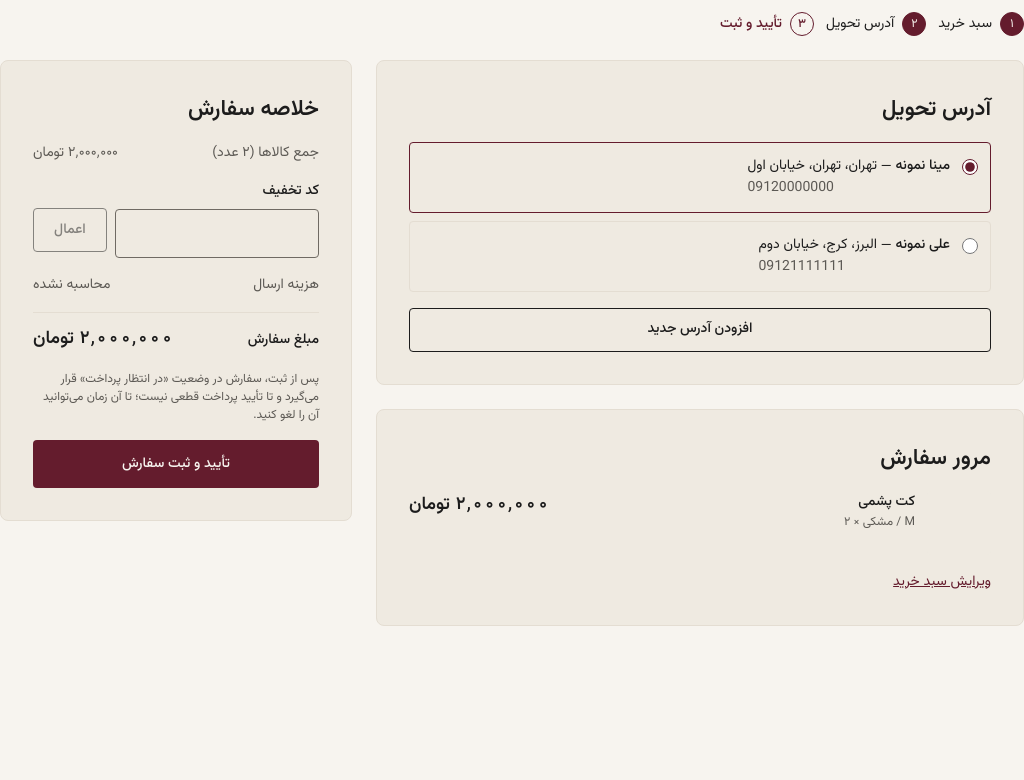
it: Checkout › 10) نشست منقضی (۴۰۱): پیام و پیوند ورود؛ آدرس نامعتبر (۴۰۴) پیام مناسب
Step 1. Click the button "تأیید و ثبت سفارش" → x=176, y=464, box [33,440,319,488]
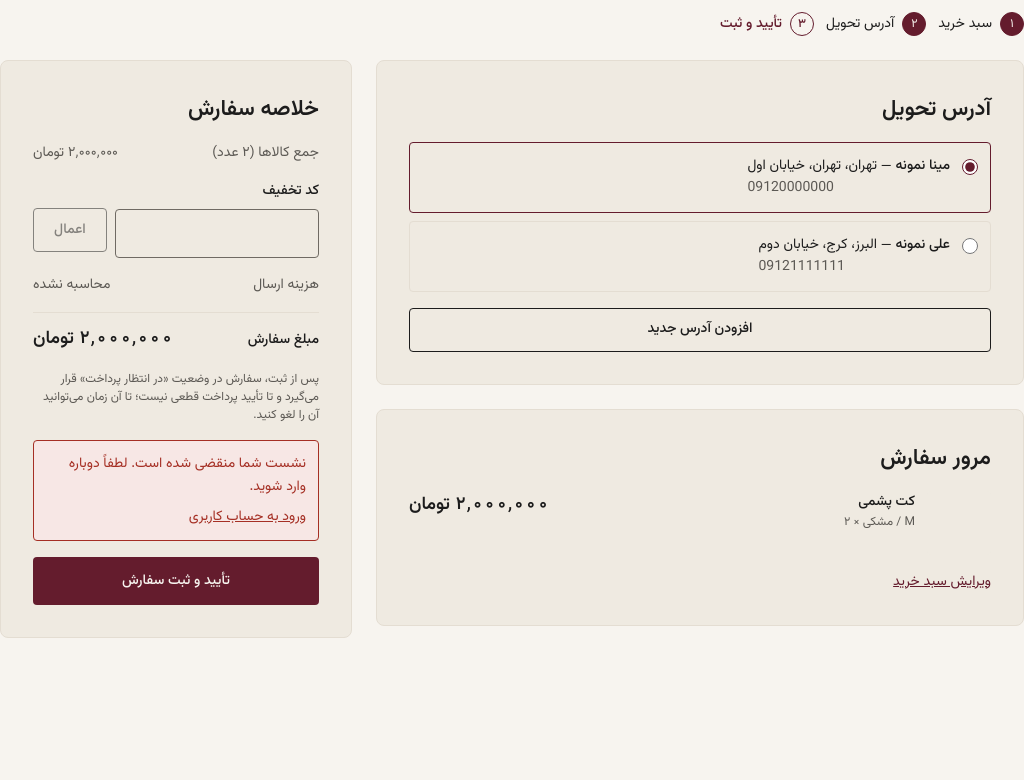
Expected: the text "نشست شما منقضی شده است. لطفاً دوباره وارد شوید." is shown, [46,453,306,498]
Step 2. Click the button "تأیید و ثبت سفارش" → x=176, y=581, box [33,557,319,605]
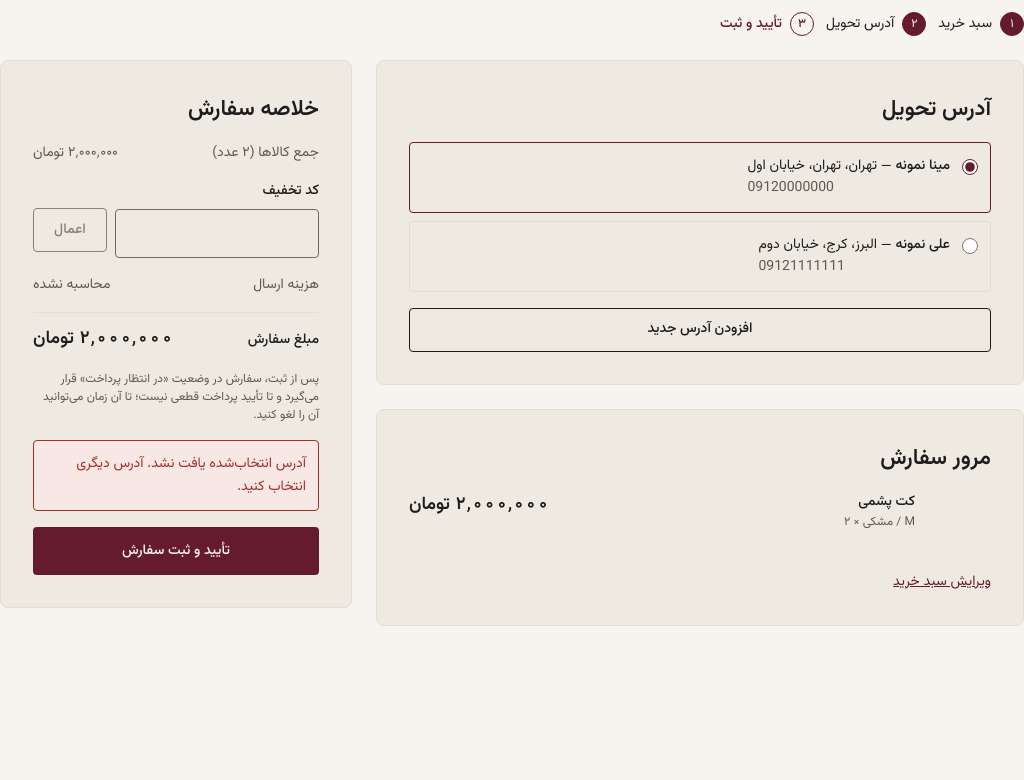
Expected: the text "آدرس انتخاب‌شده یافت نشد. آدرس دیگری انتخاب کنید." is shown, [46,453,306,498]
